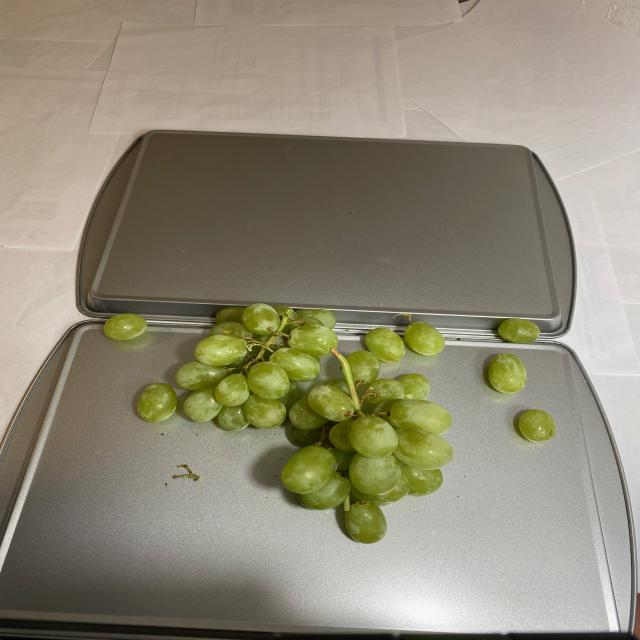Grapes: (94, 301, 558, 545)
